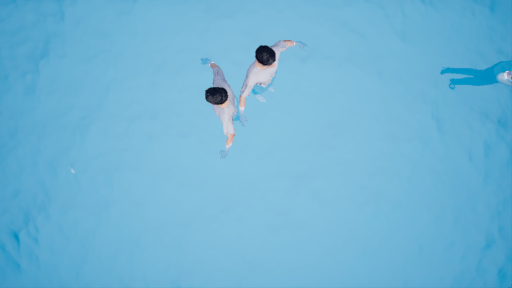person: (240, 39, 309, 126), (201, 60, 246, 153)
